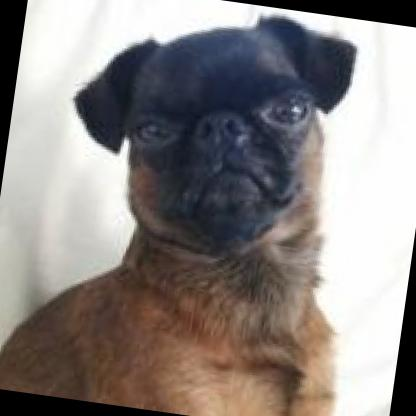Brabancon_griffon: (0, 0, 387, 416)
